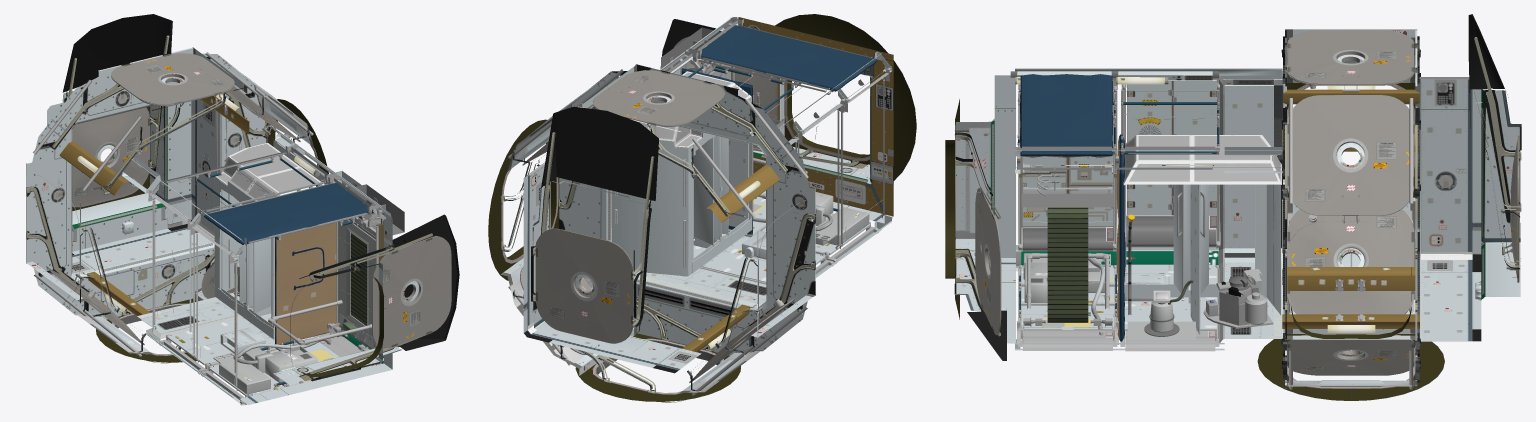
File: iss-node3.glb
3 renders of one model, left to right at view 1: azimuth 30°, elevation 25°; view 2: azimuth 150°, elevation 25°; view 3: azimuth 270°, elevation 25°, orthographic. The views are drawn at different scales.
Visible parts, largest first — view 1: Node3_Int_Rack_WHC, Node3_Int _Bulkhead.PRT, Node3_Int_Hub.PRT, Node3_Int_Metals, Node3_Int_Rack.MID, Node3_Int_Metal_Hatch_Stbd, Node3_Int_Rack.COLBERT, Node3_Int _Bulkhead.SBD, Node3_Int_Metal_Hatch_Port_Closed, Node3_Int_Metal_Hatch_Zenith_Closed, Node3_Int_Rack.ZNH, Node3_Int_Hub.FWD (+10 smaller); view 2: Node3_Int_Rack_WHC, Node3_Int_Metals, Node3_Int_Hub.SBD, Node3_Int _Bulkhead.PRT, Node3_Int_Metal_Hatch_Port_Closed, Node3_Int _Bulkhead.SBD, Node3_Int_Metal_Hatch_Zenith_Closed, Node3_Int_Rack.MID, Node3_Int_Rack.ZNH, Node3_Int_Hub.FWD, Node3_Int_Hub.ZNH, Node3_Int_Hub.PRT (+6 smaller); view 3: Node3_Int_Rack_WHC, Node3_Int _Bulkhead.PRT, Node3_Int_Metals, Node3_Int_Rack.MID, Node3_Int_Rack.FWD, Node3_Int_Metal_Hatch_Fwd, Node3_Int _Bulkhead.SBD, Node3_Int_Metal_Hatch_Aft, Node3_Int_Rack.COLBERT, Node3_Int_Rack.ZNH, Node3_Int_Metal_Hatch_Zenith_Closed, Node3_Int_Metal_Hatch_Nadir (+10 smaller).
Boxes of the visible parts, left/top/right/bottom form: Node3_Int_Rack_WHC: left=204, top=143, right=373, bottom=344; Node3_Int _Bulkhead.PRT: left=47, top=14, right=216, bottom=275; Node3_Int_Hub.PRT: left=26, top=47, right=266, bottom=319; Node3_Int_Metals: left=26, top=35, right=432, bottom=405; Node3_Int_Rack.MID: left=122, top=125, right=391, bottom=405; Node3_Int_Metal_Hatch_Stbd: left=372, top=236, right=451, bottom=348; Node3_Int_Rack.COLBERT: left=268, top=184, right=404, bottom=351; Node3_Int _Bulkhead.SBD: left=239, top=212, right=459, bottom=404; Node3_Int_Metal_Hatch_Port_Closed: left=72, top=107, right=149, bottom=207; Node3_Int_Metal_Hatch_Zenith_Closed: left=111, top=53, right=234, bottom=105; Node3_Int_Rack.ZNH: left=152, top=313, right=371, bottom=396; Node3_Int_Hub.FWD: left=26, top=141, right=152, bottom=354; Node3_Int_Rack_WHC: left=611, top=25, right=877, bottom=276; Node3_Int_Metals: left=488, top=14, right=916, bottom=402; Node3_Int_Hub.SBD: left=559, top=64, right=815, bottom=355; Node3_Int _Bulkhead.PRT: left=523, top=106, right=700, bottom=373; Node3_Int_Metal_Hatch_Port_Closed: left=535, top=228, right=633, bottom=343; Node3_Int _Bulkhead.SBD: left=660, top=17, right=893, bottom=223; Node3_Int_Metal_Hatch_Zenith_Closed: left=593, top=70, right=725, bottom=126; Node3_Int_Rack.MID: left=633, top=16, right=892, bottom=304; Node3_Int_Rack.ZNH: left=693, top=196, right=870, bottom=284; Node3_Int_Hub.FWD: left=679, top=164, right=815, bottom=393; Node3_Int_Hub.ZNH: left=501, top=258, right=750, bottom=375; Node3_Int_Hub.PRT: left=502, top=106, right=758, bottom=391; Node3_Int_Rack_WHC: left=1020, top=74, right=1282, bottom=341; Node3_Int _Bulkhead.PRT: left=1421, top=14, right=1521, bottom=341; Node3_Int_Metals: left=945, top=37, right=1521, bottom=400; Node3_Int_Rack.MID: left=1015, top=68, right=1282, bottom=350; Node3_Int_Rack.FWD: left=1018, top=80, right=1224, bottom=251; Node3_Int_Metal_Hatch_Fwd: left=1287, top=95, right=1414, bottom=215; Node3_Int _Bulkhead.SBD: left=954, top=75, right=1015, bottom=360; Node3_Int_Metal_Hatch_Aft: left=1287, top=209, right=1414, bottom=314; Node3_Int_Rack.COLBERT: left=1018, top=163, right=1117, bottom=332; Node3_Int_Rack.ZNH: left=1018, top=248, right=1224, bottom=351; Node3_Int_Metal_Hatch_Zenith_Closed: left=1287, top=30, right=1414, bottom=92; Node3_Int_Metal_Hatch_Nadir: left=1287, top=333, right=1414, bottom=375.
Size of the model in its own units: 38.83 by 39.92 by 60.94.
7 materials, 7 textured.
